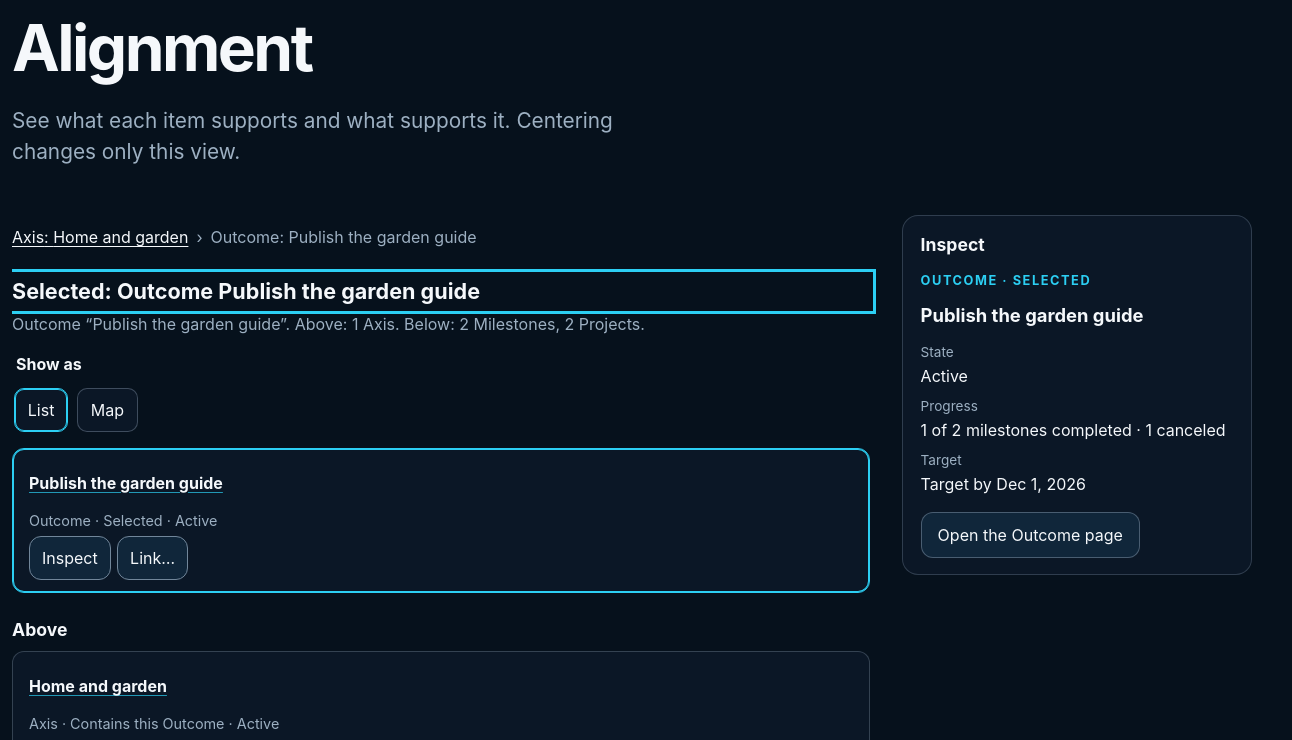
Alignment page: the optional map › switches to the map through the Show as choice, with a hidden decorative SVG
What coordinates should you click on to do the following:
click the radio button labelled "Map"
I would click on:
 (107, 410)
Its box is [77,388,138,432].
(page scrolled)
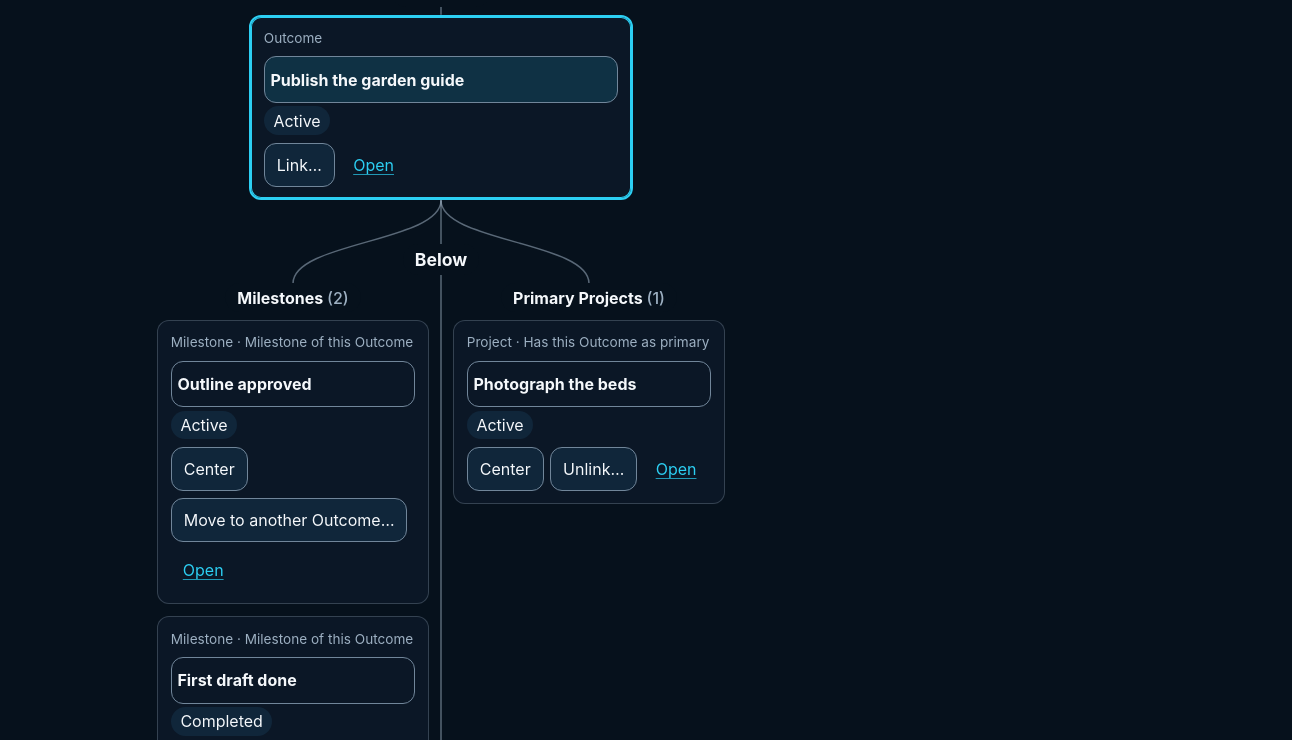
What coordinates should you click on to do the following:
click the button "Outline approved"
I would click on:
 (293, 384)
Its box is [171,361,415,408].
(page scrolled)
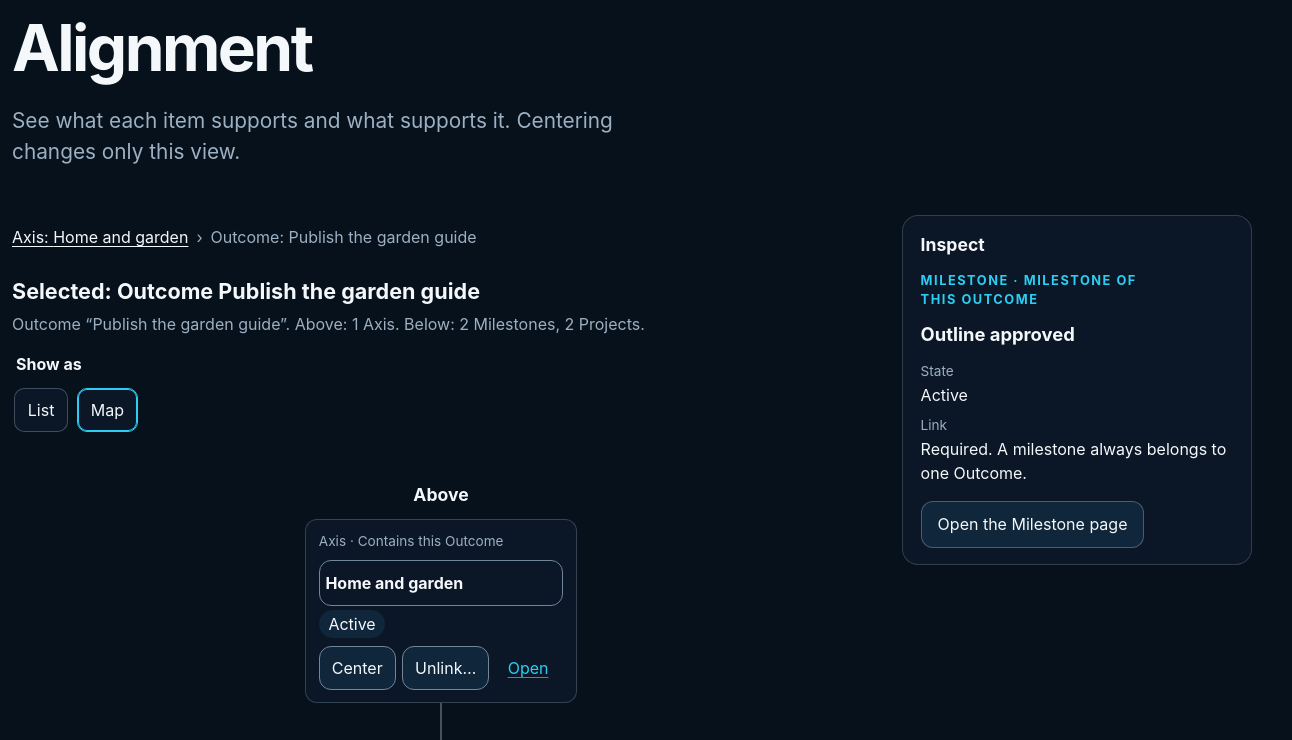
Expected: the text "Outline approved" is shown, [921,323,1075,345]
